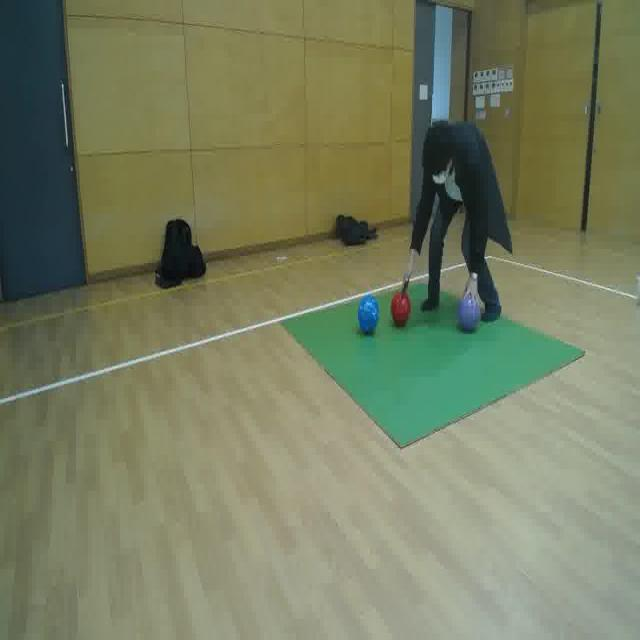blue_ball: (359, 294, 379, 335)
purple_ball: (457, 294, 479, 332)
red_ball: (391, 292, 411, 326)
